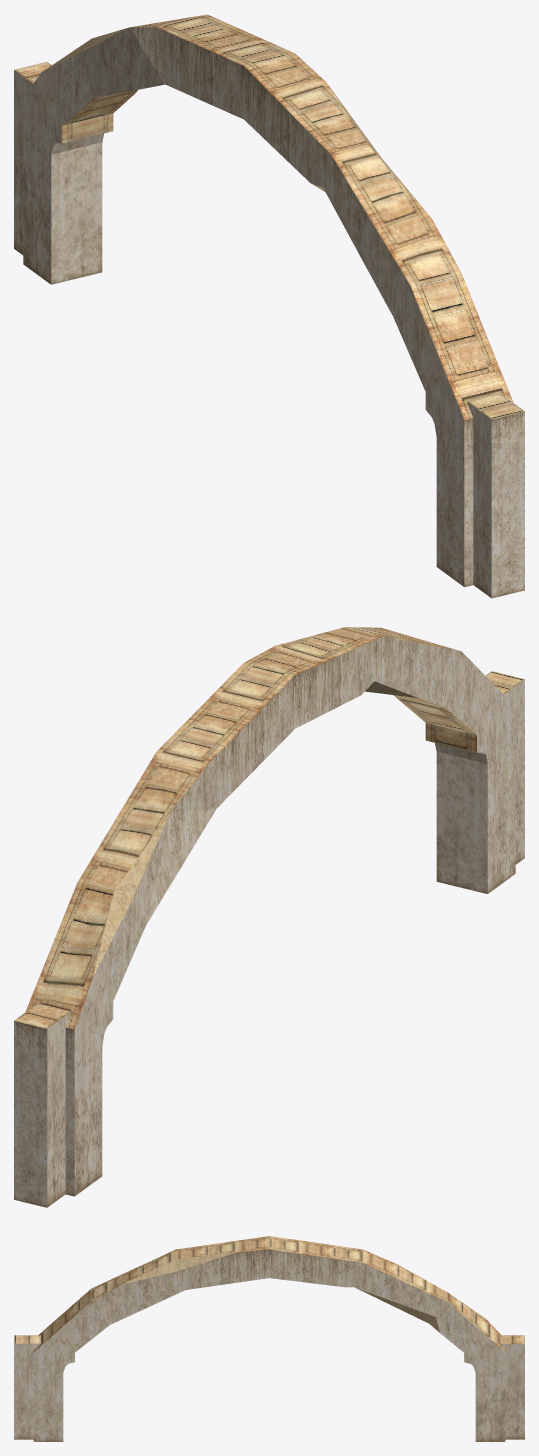
The model's file is thm_tato_imprv_archway_wide_s01_l1.fbx.
3 renders of one model, top to bottom at view 1: azimuth 30°, elevation 25°; view 2: azimuth 150°, elevation 25°; view 3: azimuth 270°, elevation 25°, orthographic. The views are drawn at different scales.
Visible parts, largest first — view 1: mesh_node; view 2: mesh_node; view 3: mesh_node.
Part boxes in pixels (<box>): mesh_node: <box>14,14,524,598</box>; mesh_node: <box>14,627,524,1207</box>; mesh_node: <box>14,1236,524,1441</box>.
Bounding box in the file's own units: 0.9899 × 6.65 × 16.
